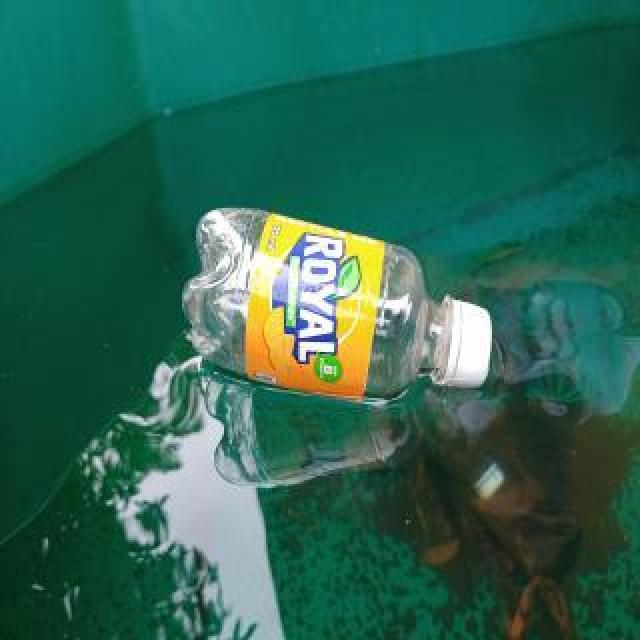bottle: (182, 202, 492, 408)
